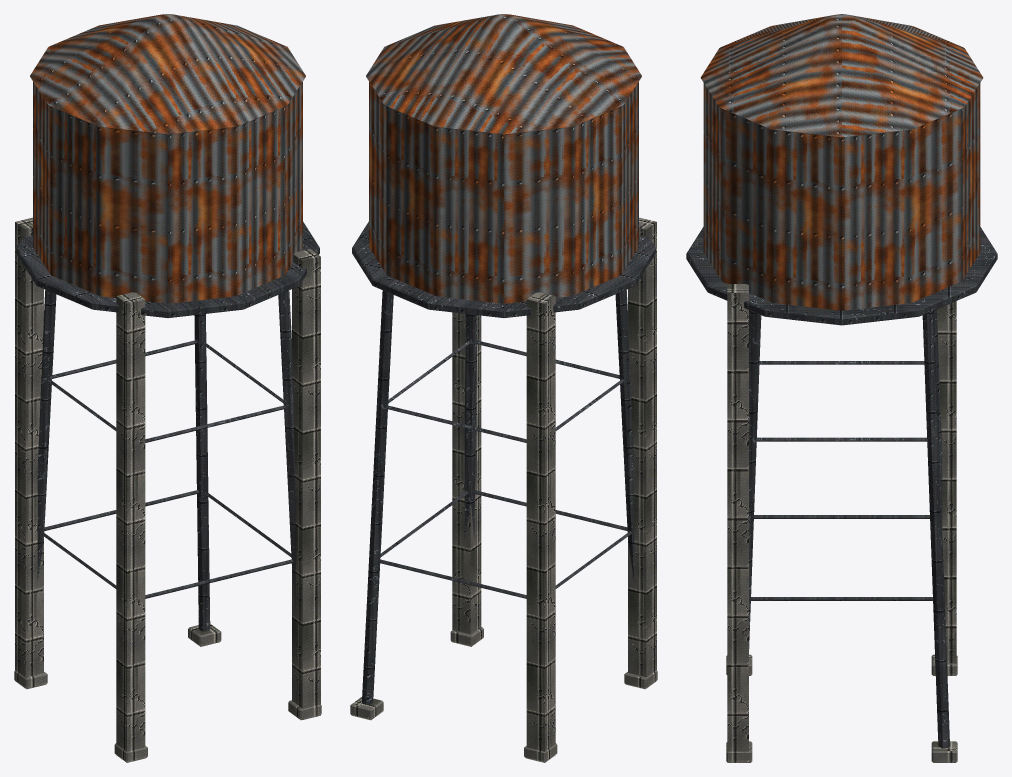
File: prop_water_tower.glb
The picture shows the model from 3 angles, left to right: view 1: azimuth 30°, elevation 25°; view 2: azimuth 150°, elevation 25°; view 3: azimuth 270°, elevation 25°; orthographic projection. The views are drawn at different scales.
Visible parts, largest first — view 1: prop_water_tower_mesh, prop_water_tower_col-colonly.003, prop_water_tower_col-colonly.002, prop_water_tower_col-colonly.001; view 2: prop_water_tower_mesh, prop_water_tower_col-colonly.001, prop_water_tower_col-colonly.003, prop_water_tower_col-colonly.002; view 3: prop_water_tower_mesh, prop_water_tower_col-colonly.002, prop_water_tower_col-colonly.001.
Boxes of the visible parts, box(x1,y1,x2,y2) form: prop_water_tower_mesh: box(14, 14, 321, 762); prop_water_tower_col-colonly.003: box(116, 292, 145, 762); prop_water_tower_col-colonly.002: box(292, 249, 320, 719); prop_water_tower_col-colonly.001: box(15, 217, 43, 688); prop_water_tower_mesh: box(350, 14, 657, 762); prop_water_tower_col-colonly.001: box(526, 292, 555, 762); prop_water_tower_col-colonly.003: box(628, 217, 656, 688); prop_water_tower_col-colonly.002: box(452, 312, 481, 634); prop_water_tower_mesh: box(686, 14, 997, 762); prop_water_tower_col-colonly.002: box(727, 284, 748, 762); prop_water_tower_col-colonly.001: box(935, 301, 956, 663).
Size of what is drawn, in the model's own units: 7.2 by 17.76 by 7.2.
Materials: 3 (3 with a texture image).
